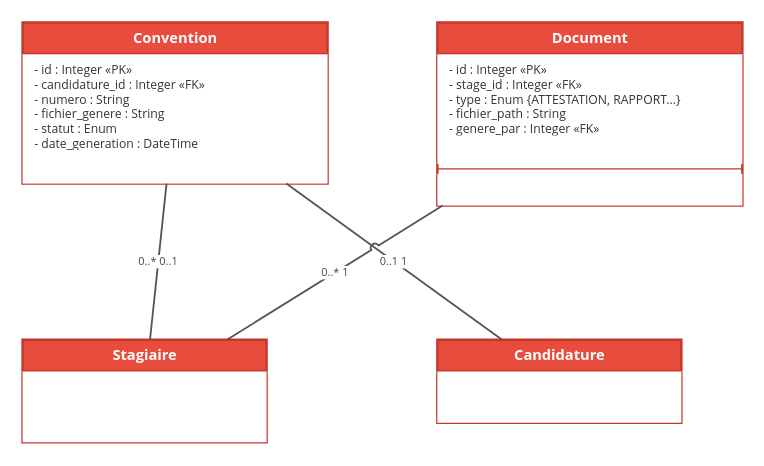
This 764x466 diagram has some shape labels left out. Each missing label, with the centre of its shape:
+ programmerArchivage() : void: (589,189)
- id : Integer «PK» - nom : String: (559,396)
- id : Integer «PK» - nom : String - prenom : String: (144,406)
